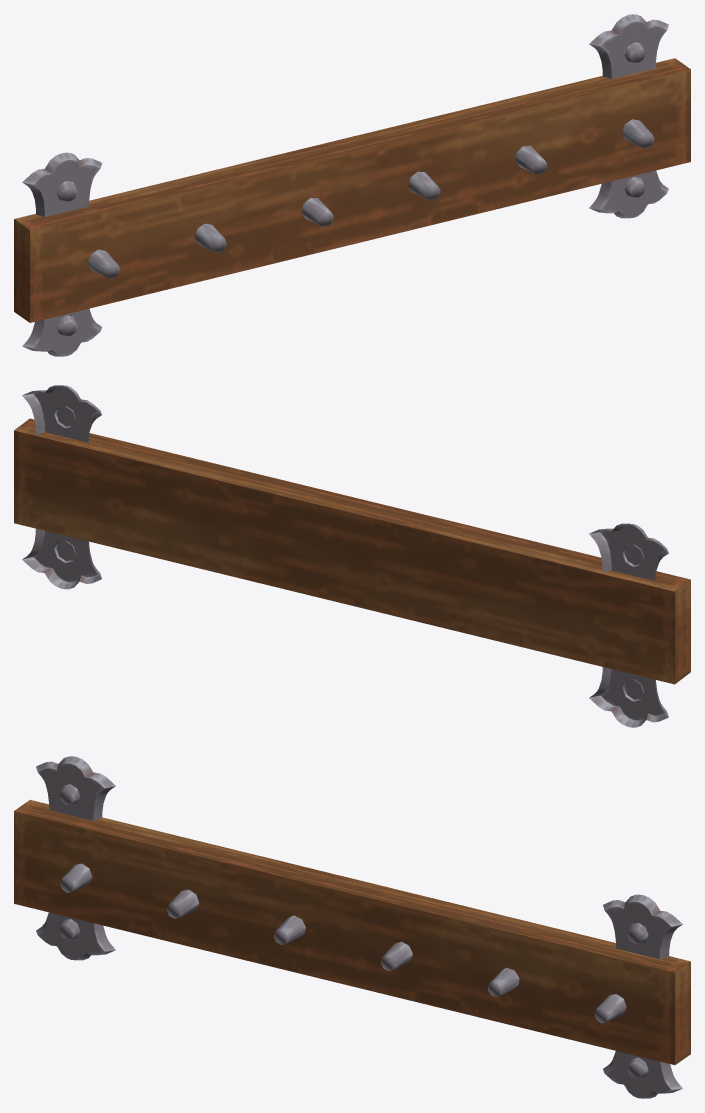
Rendered from peg_rack.glb.
3 views of the same model, one above another, from view 1: azimuth 30°, elevation 25°; view 2: azimuth 150°, elevation 25°; view 3: azimuth 330°, elevation 25° (orthographic).
Parts seen in each view (by area): view 1: Peg_Rack; view 2: Peg_Rack; view 3: Peg_Rack.
Boxes of the visible parts, bbox=[...] form: Peg_Rack: bbox=[14, 14, 690, 356]; Peg_Rack: bbox=[14, 385, 690, 727]; Peg_Rack: bbox=[14, 756, 690, 1098].
Bounding box in the file's own units: 1.18 × 0.3479 × 0.0957.
2 materials, 2 textured.
